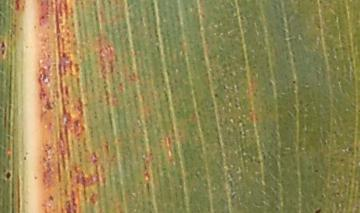tarspot: (312, 205, 324, 213), (4, 170, 13, 180), (47, 193, 56, 203), (13, 1, 21, 11), (212, 91, 220, 100), (311, 167, 320, 174), (31, 174, 40, 181), (60, 50, 67, 59), (21, 154, 29, 161), (1, 40, 7, 49), (290, 78, 297, 85), (17, 24, 24, 31), (32, 23, 38, 31), (1, 49, 7, 56), (39, 14, 45, 21)
